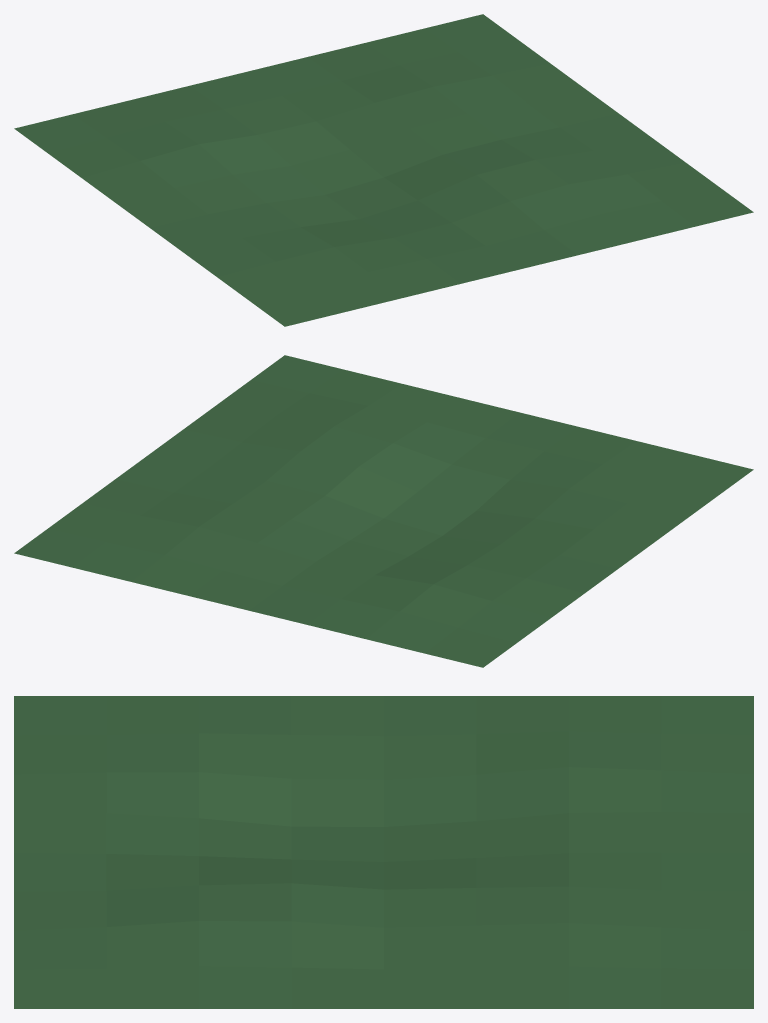
File: Terrain_12_Light_Green.fbx
The picture shows the model from 3 angles, top to bottom: view 1: azimuth 30°, elevation 25°; view 2: azimuth 150°, elevation 25°; view 3: azimuth 270°, elevation 25°; orthographic projection. The views are drawn at different scales.
Parts seen in each view (by area): view 1: Terrain_12_Light_Green; view 2: Terrain_12_Light_Green; view 3: Terrain_12_Light_Green.
Boxes of the visible parts, x1,y1,x2,y2 form: Terrain_12_Light_Green: [14, 14, 753, 326]; Terrain_12_Light_Green: [14, 355, 753, 667]; Terrain_12_Light_Green: [14, 696, 753, 1008].
Bounding box in the file's own units: 5000 × 175 × 5000.
